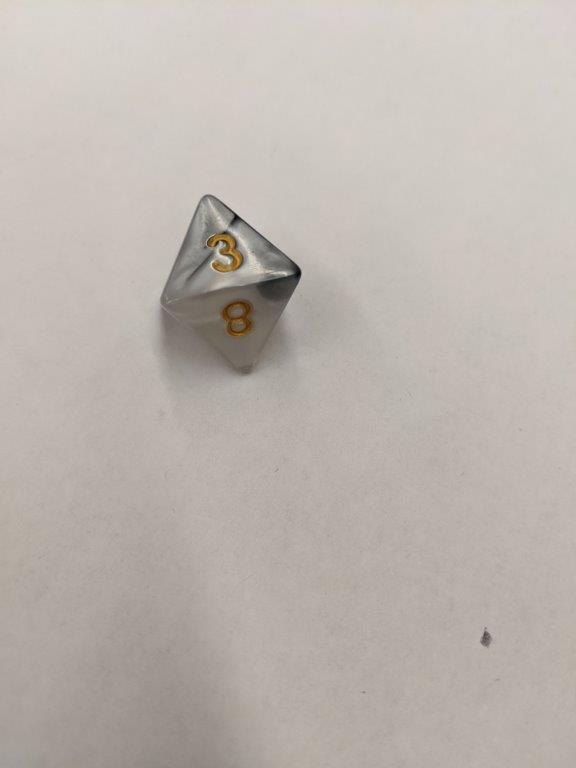d8-3: (155, 193, 304, 376)
